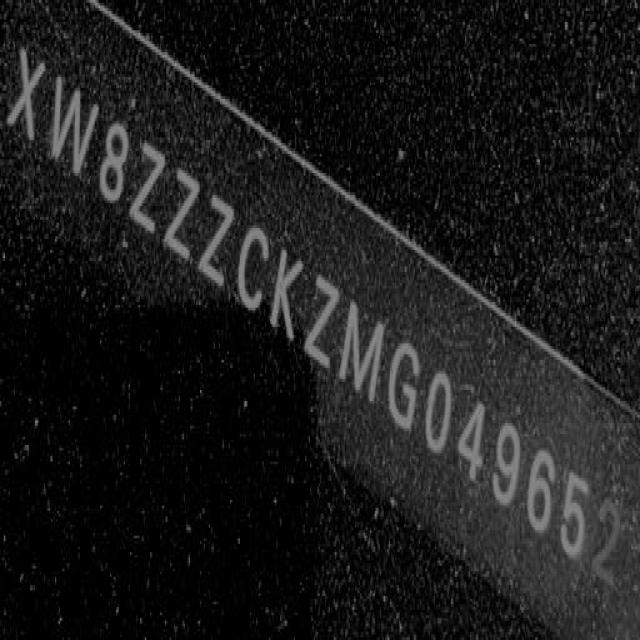0: (417, 345, 461, 478)
2: (589, 488, 624, 602)
4: (452, 386, 492, 502)
5: (554, 458, 594, 581)
6: (520, 432, 561, 562)
8: (92, 100, 139, 221)
9: (481, 403, 527, 532)
C: (230, 205, 276, 331)
G: (381, 324, 426, 453)
K: (265, 234, 308, 359)
M: (334, 290, 391, 421)
W: (38, 53, 107, 196)
X: (4, 30, 50, 160)
Z: (298, 259, 348, 389), (193, 179, 242, 301), (125, 127, 172, 249), (158, 154, 204, 275)
